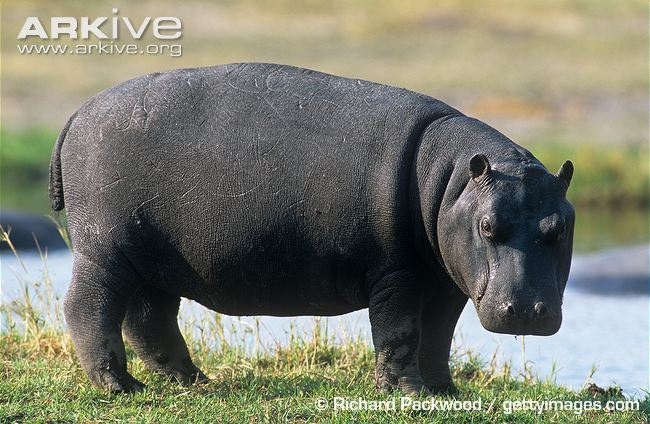Hippopotamus: (45, 59, 581, 403)
